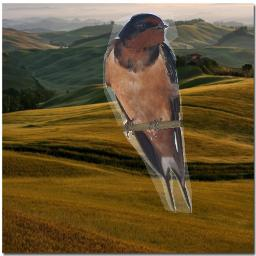Swallow: (103, 12, 192, 213)
